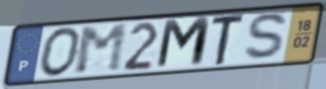2: (121, 20, 162, 74)
M: (153, 14, 214, 72), (74, 22, 130, 77)
O: (38, 25, 84, 79)
S: (242, 11, 292, 63)
T: (209, 12, 248, 68)
